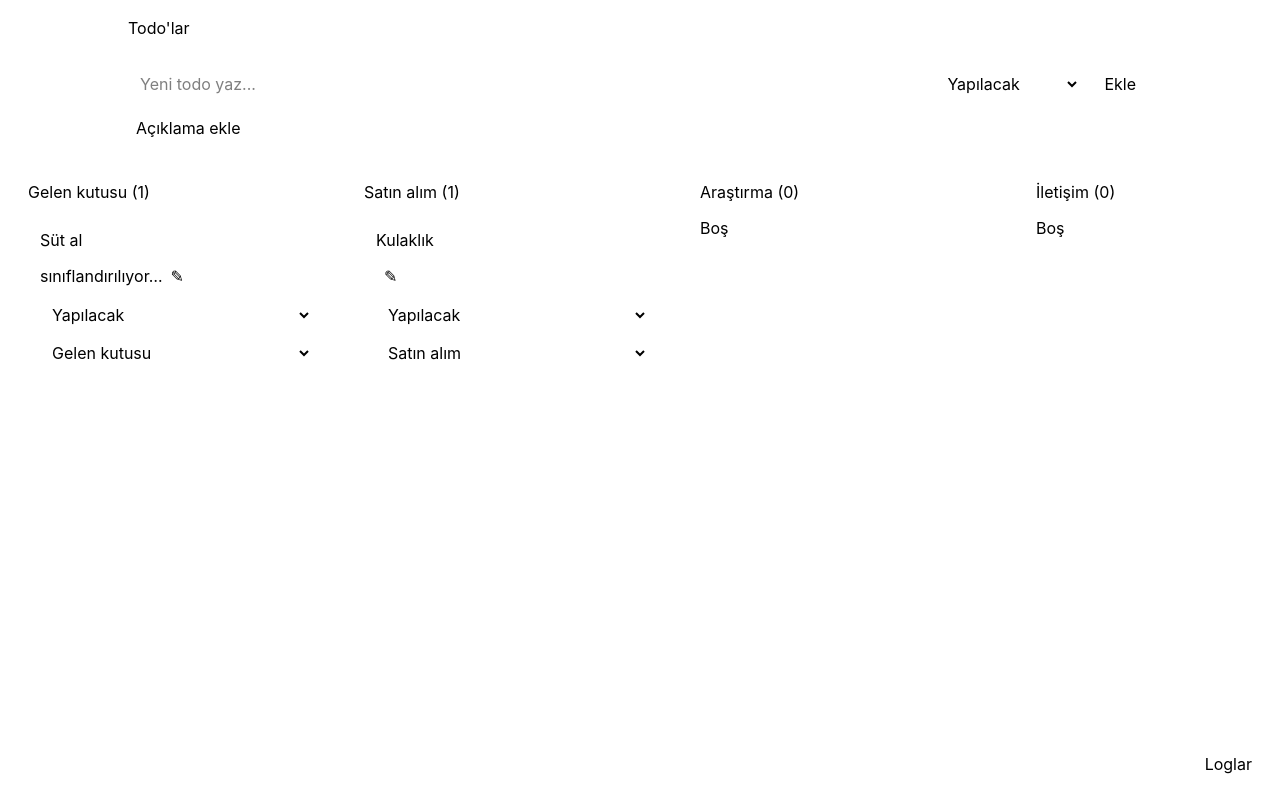
Scenario: card status › puts a card on top of its new column when the answer says the AI has classified it meanwhile
Select "Tamamlandı" in the dropdown named "Süt al için durum" at [176, 315], box [40,300,312,330]
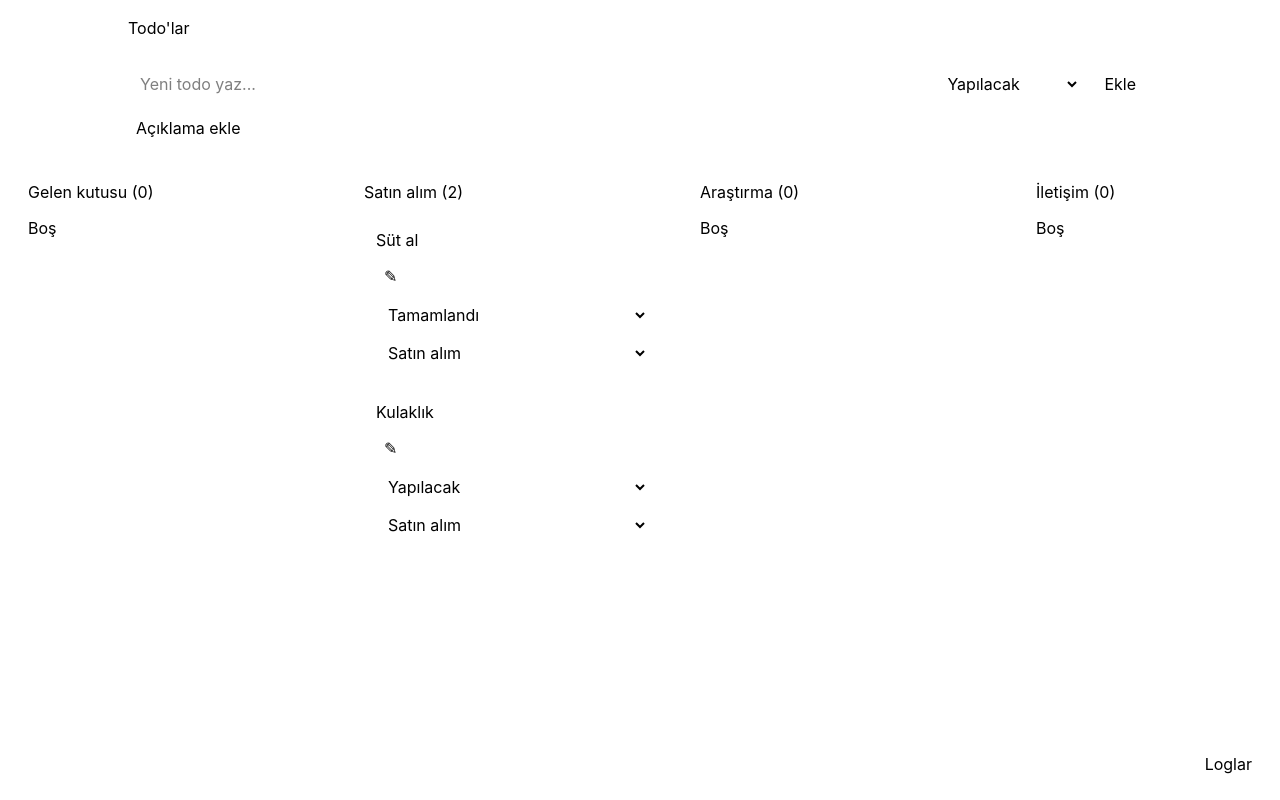
Result: the text with class "badge" is gone
